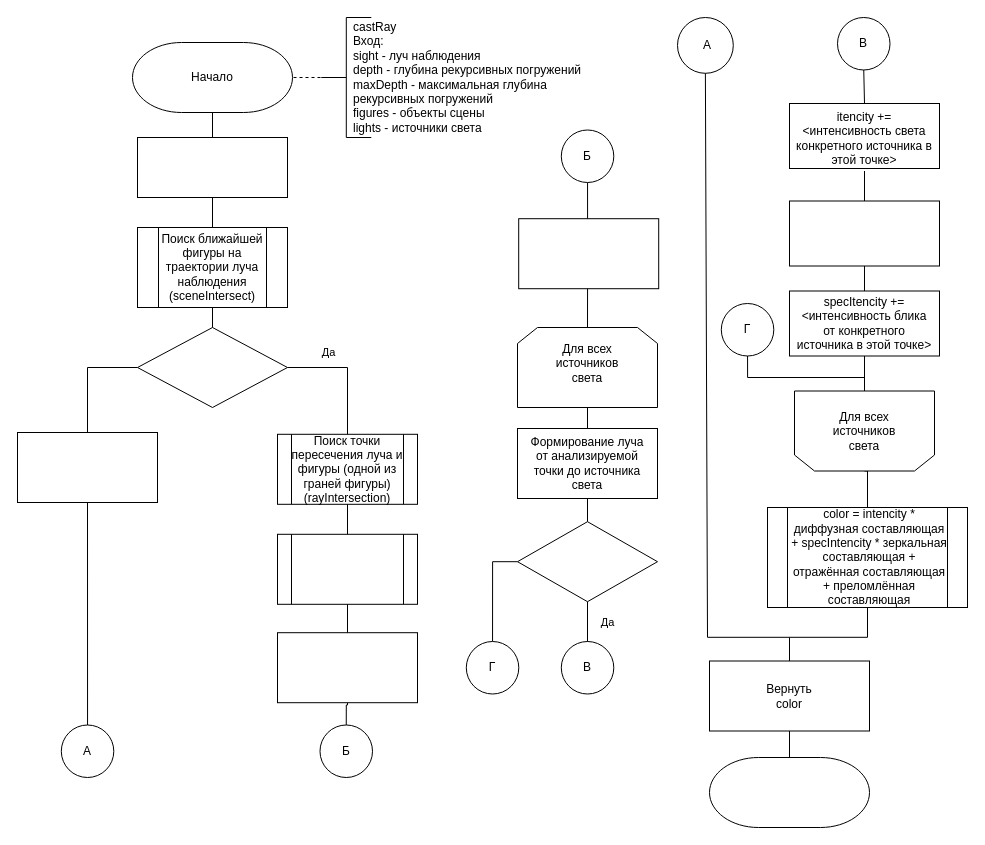
The diagram is 985 pixels wide and 845 high, and some of its shapes have lost their labels. The shapes that lost their labels are listed below. From the top down, each one's centre as x and y in pixels, then its label:
At [212,167]: "intencity = 0 specIntencity = 0".
At [588,253]: "Сформироваать и пустить преломлённый луч (рекурсивный вызов)".
At [864,233]: "Формирование отражённого луча".
At [212,367]: "depth < maxDepth и фигура найдена".
At [87,467]: "color = backgroundColor".
At [347,568]: "Найти нормаль к точке пересечения луча с фигурой (rayIntersection)".
At [587,561]: "Найдено пересечение с фигурой".
At [347,667]: "Сформировать и пустить отражённый луч (рекурсивный вызов)".
At [789,792]: "Конец".
